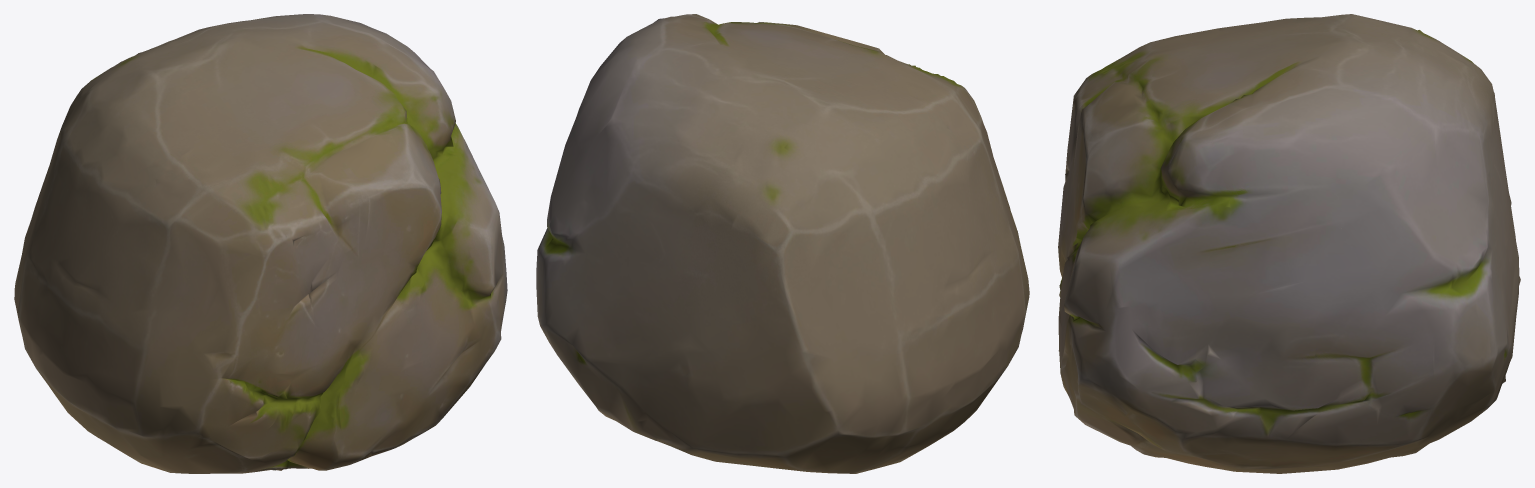
Rendered from stone.glb.
3 views of the same model, side by side, from view 1: azimuth 30°, elevation 25°; view 2: azimuth 150°, elevation 25°; view 3: azimuth 270°, elevation 25° (orthographic). The views are drawn at different scales.
Visible parts, largest first — view 1: tripo_node_54033dd6-26d5-4af9-8846-e84fee86afcb; view 2: tripo_node_54033dd6-26d5-4af9-8846-e84fee86afcb; view 3: tripo_node_54033dd6-26d5-4af9-8846-e84fee86afcb.
Boxes of the visible parts, <box> form: tripo_node_54033dd6-26d5-4af9-8846-e84fee86afcb: <box>14,14,507,473</box>; tripo_node_54033dd6-26d5-4af9-8846-e84fee86afcb: <box>536,14,1029,473</box>; tripo_node_54033dd6-26d5-4af9-8846-e84fee86afcb: <box>1058,14,1520,473</box>.
Bounding box in the file's own units: 0.9998 × 0.9452 × 0.9801.
1 material, 1 textured.
